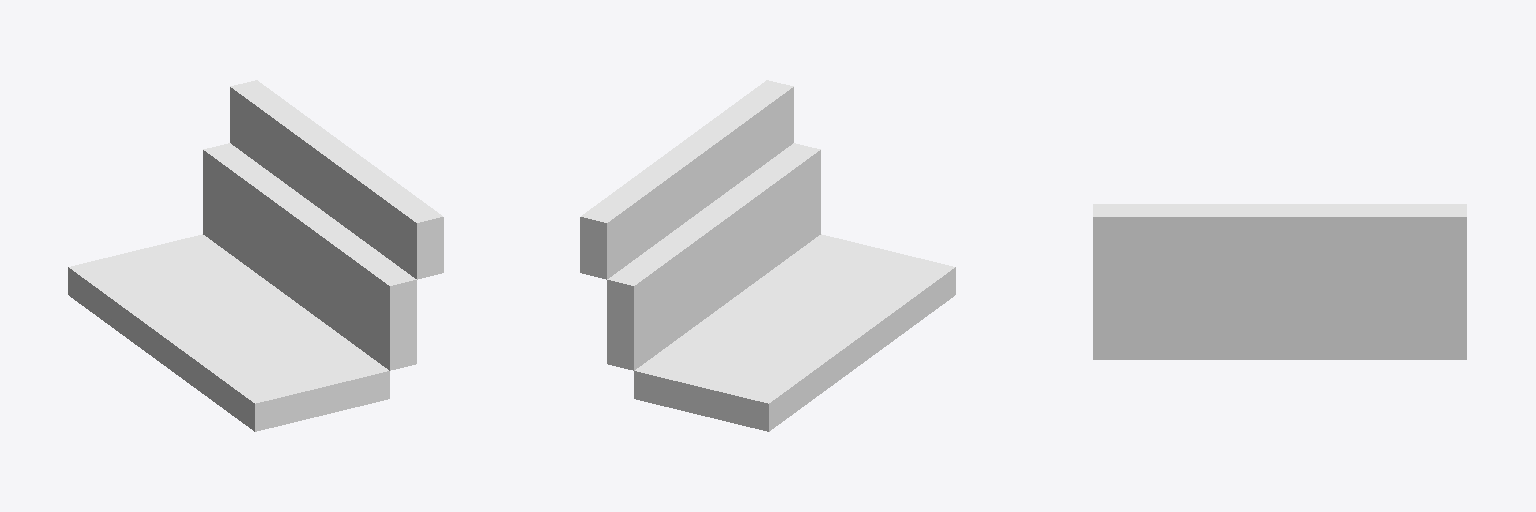
The model's file is map1.73.vox.obj.
3 renders of one model, left to right at view 1: azimuth 30°, elevation 25°; view 2: azimuth 150°, elevation 25°; view 3: azimuth 270°, elevation 25°, orthographic.
Parts seen in each view (by area): view 1: object 1; view 2: object 1; view 3: object 1.
Part boxes in pixels (left/top/right/bottom): object 1: left=68, top=80, right=443, bottom=431; object 1: left=580, top=80, right=955, bottom=431; object 1: left=1093, top=204, right=1466, bottom=359.
Bounding box in the file's own units: 14 × 12 × 24.